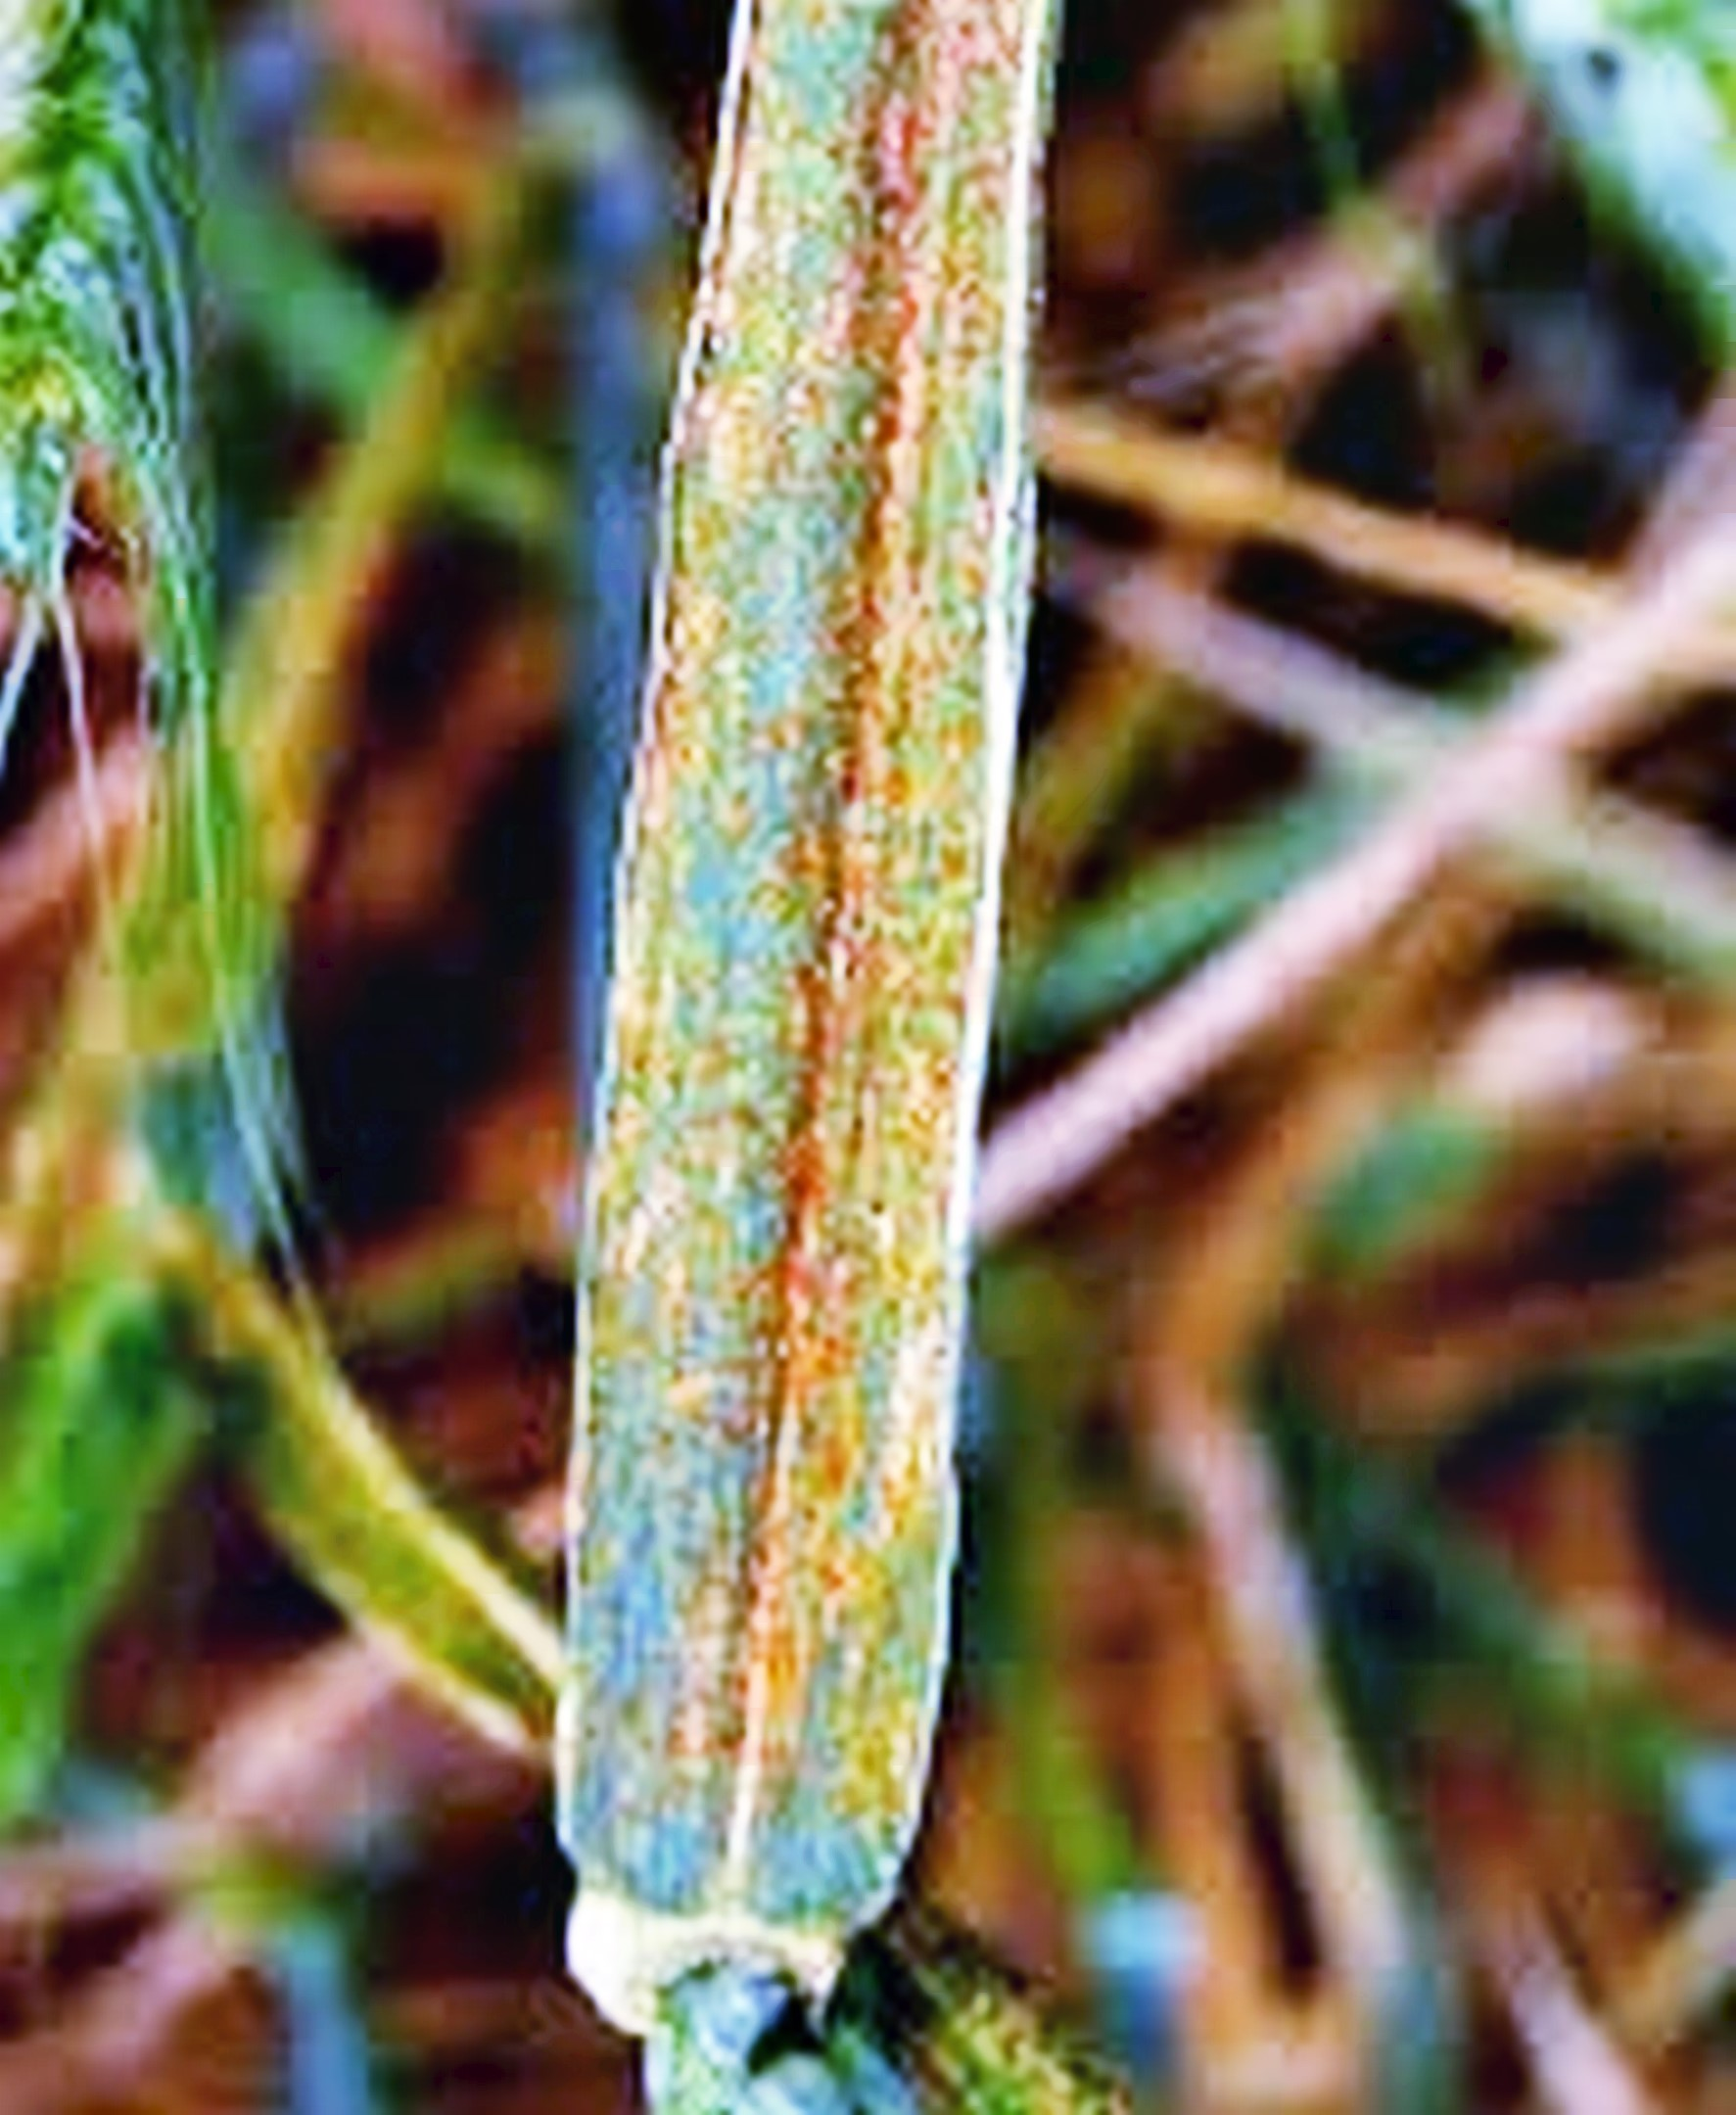Leaf Rust: (548, 21, 1079, 1795)
